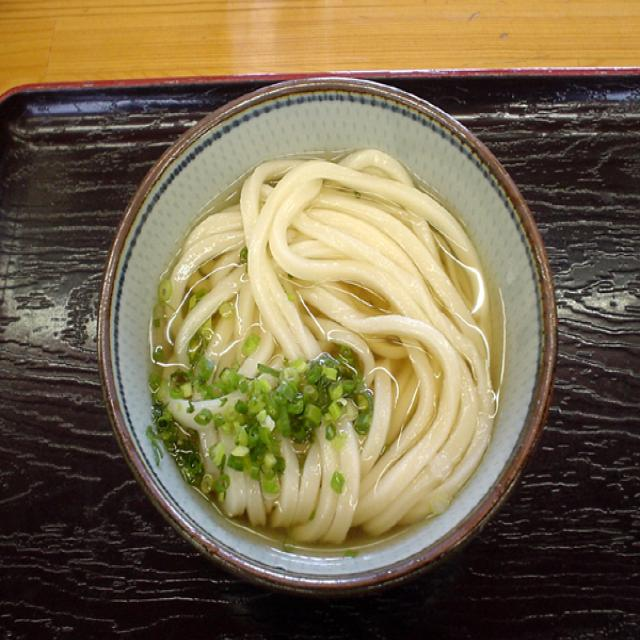面条主食: (86, 67, 561, 598)
